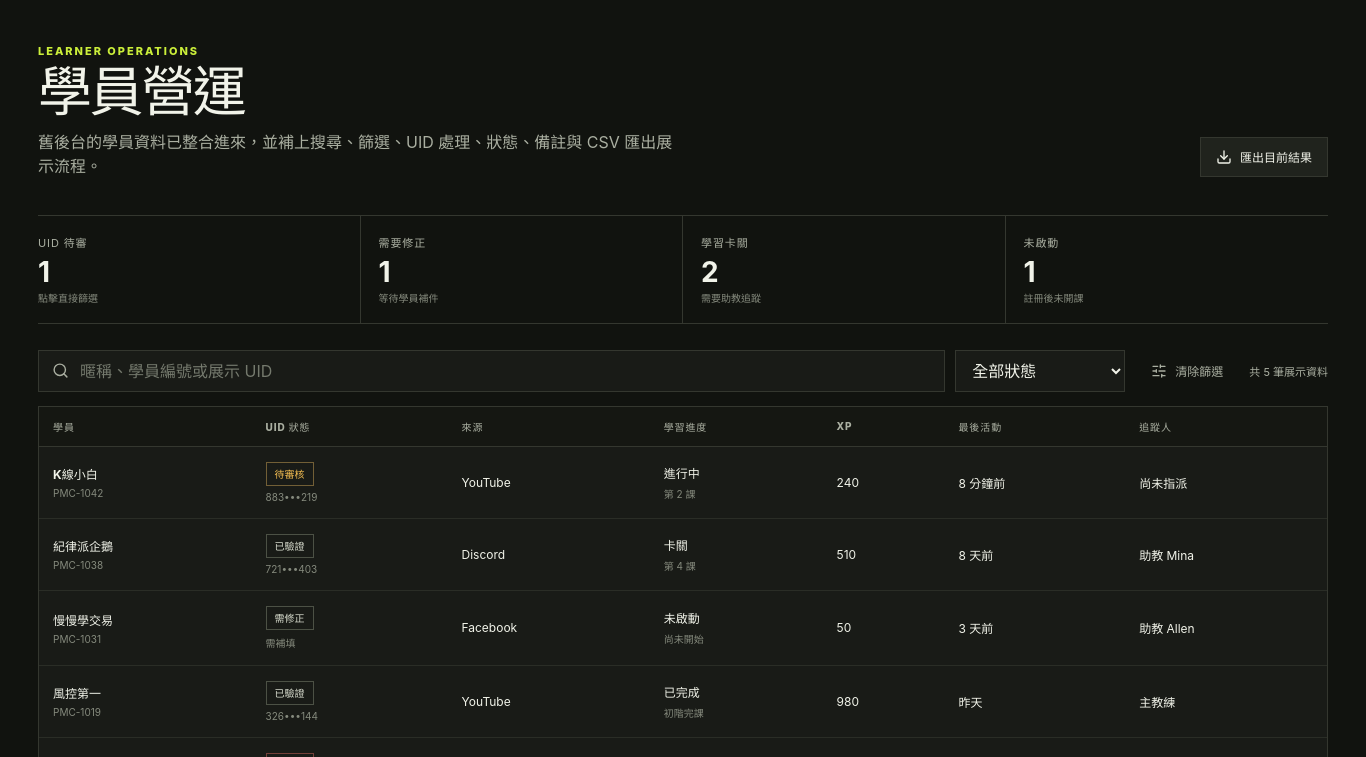
it: LearnersPage › filters learners and shows a recoverable empty state
The image size is (1366, 757).
Expected: the row "K線小白 PMC-1042 待審核 883•••219 YouTube 進行中 第 2 課 240 8 分鐘前 尚未指派" is shown, x1=39 y1=446 x2=1327 y2=518
Type "no-learner-can-match-this-query" into the field with placeholder "暱稱、學員編號或展示 UID" at (505, 371), box x1=78 y1=360 x2=931 y2=382
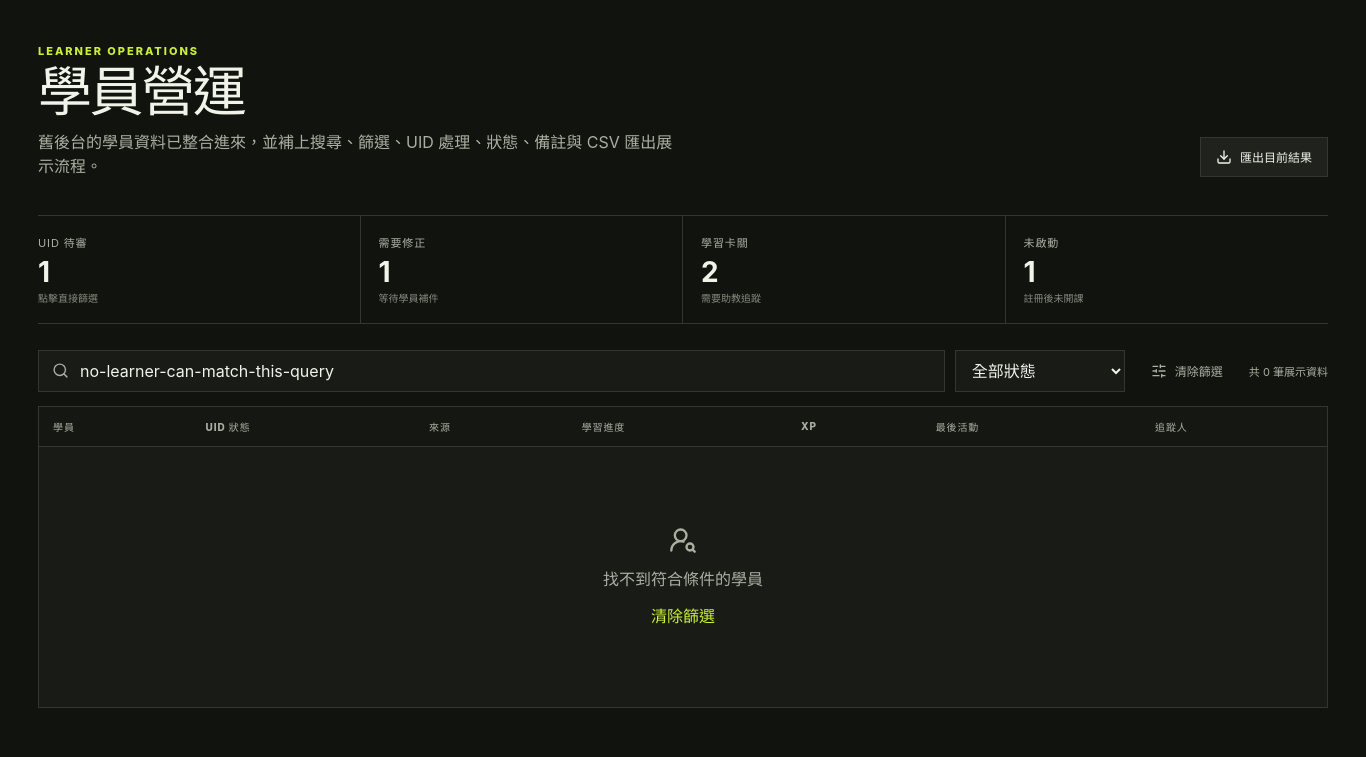
Now the element with class "empty-state" is shown, box x1=603 y1=526 x2=763 y2=628
Click the button "清除篩選" below "找不到符合條件的學員" at (683, 615), box x1=645 y1=602 x2=721 y2=628
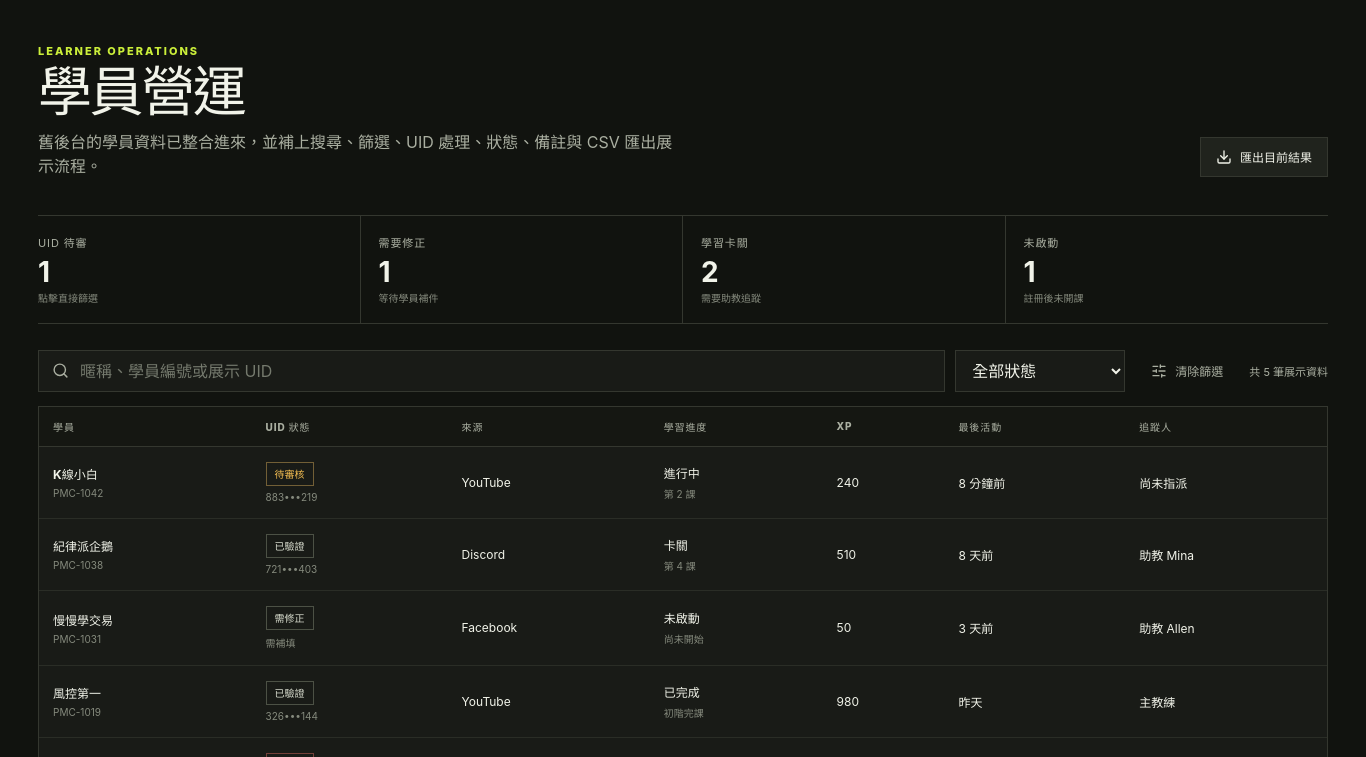
Now the field with placeholder "暱稱、學員編號或展示 UID" is empty, box x1=78 y1=360 x2=931 y2=382
Now the row "K線小白 PMC-1042 待審核 883•••219 YouTube 進行中 第 2 課 240 8 分鐘前 尚未指派" is shown, box x1=39 y1=446 x2=1327 y2=518
Now the element with class "empty-state" is gone
